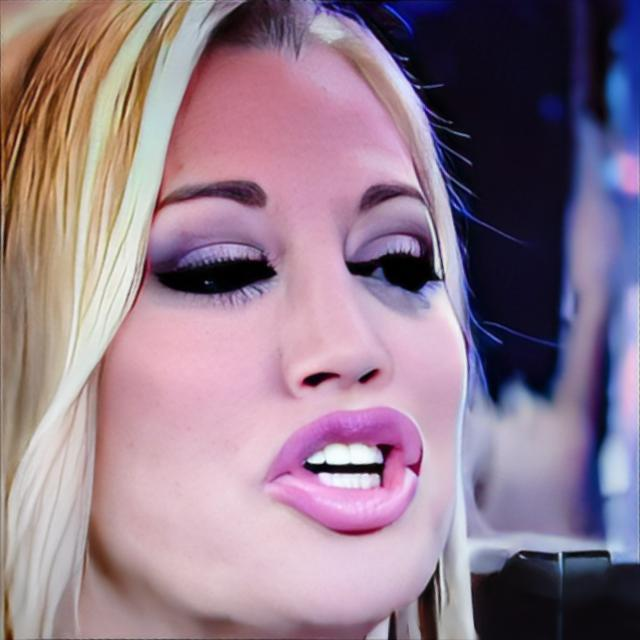disgust: (89, 41, 470, 633)
